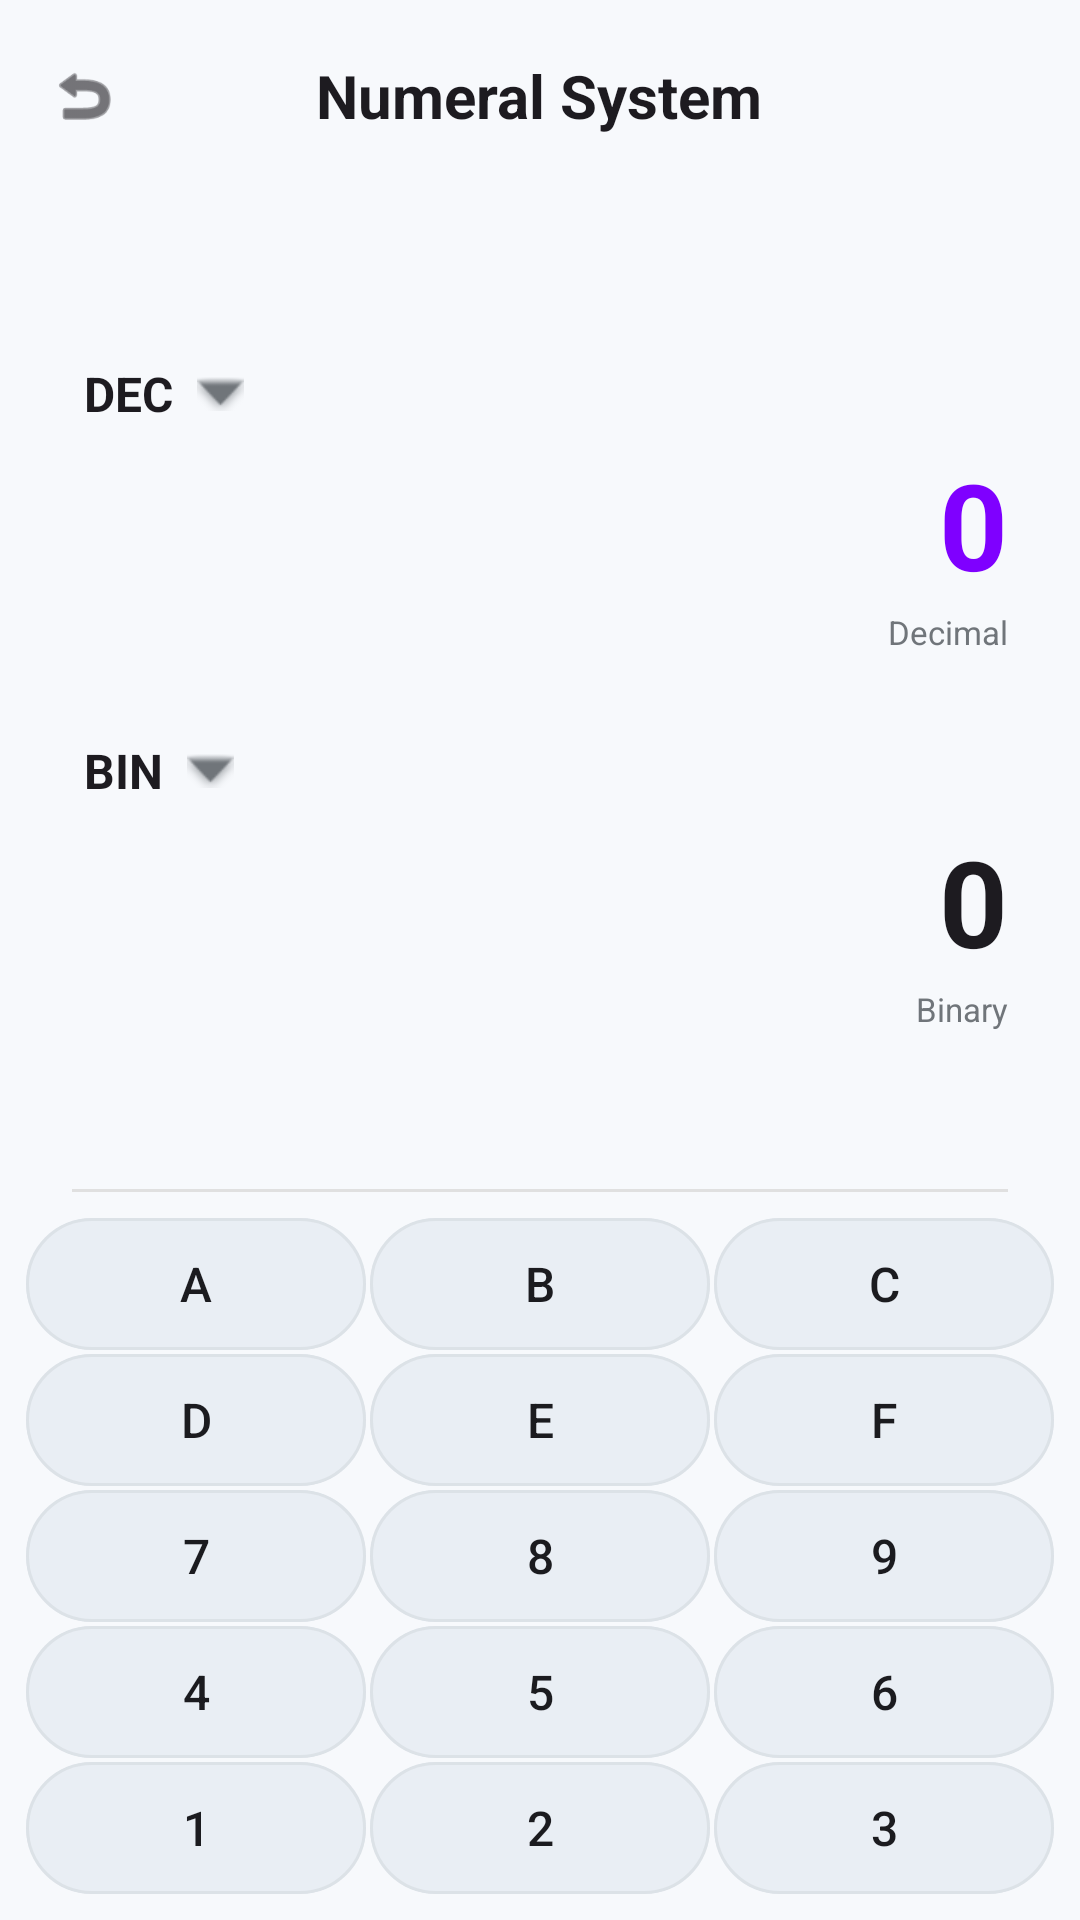

Screen size 1080 x 1920. Icon name, then its box in pixels as {"x1": x1, "y1": y1, "x2": x2, "y2": y2}:
revert: {"x1": 59, "y1": 73, "x2": 111, "y2": 120}
